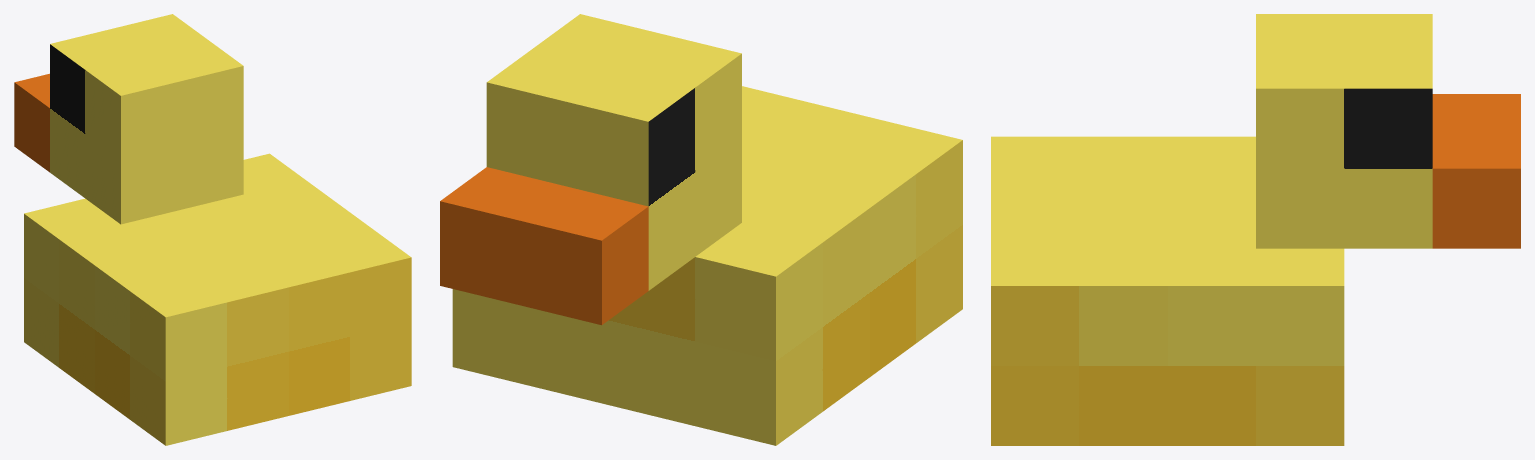
The model's file is RubberDuck.fbx.
3 views of the same model, side by side, from view 1: azimuth 30°, elevation 25°; view 2: azimuth 150°, elevation 25°; view 3: azimuth 270°, elevation 25° (orthographic). The views are drawn at different scales.
Parts seen in each view (by area): view 1: cube, cube_1, cube_2; view 2: cube, cube_1, cube_2; view 3: cube, cube_1, cube_2.
Boxes of the visible parts, x1,y1,x2,y2 form: cube: [24, 153, 411, 445]; cube_1: [50, 14, 243, 224]; cube_2: [14, 73, 49, 172]; cube: [452, 86, 962, 445]; cube_1: [486, 14, 741, 290]; cube_2: [440, 167, 648, 325]; cube: [991, 136, 1344, 445]; cube_1: [1256, 14, 1432, 248]; cube_2: [1432, 94, 1520, 248].
Size of the model in its own units: 25 by 25 by 37.5.
Materials: 1 (1 with a texture image).
